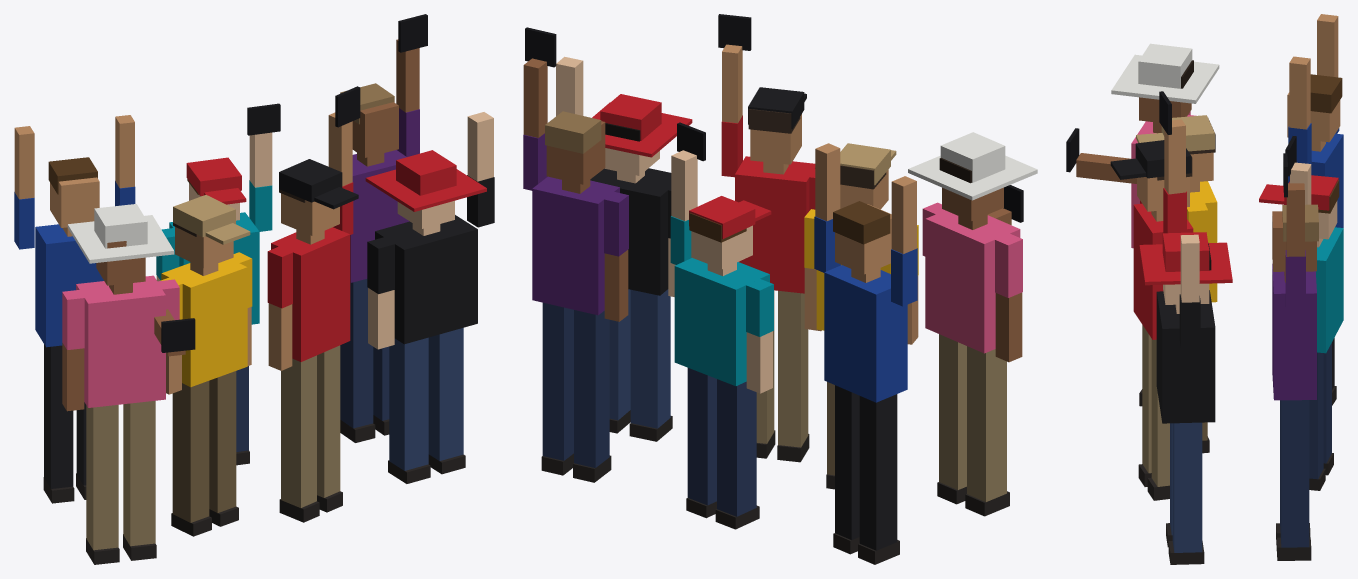
The model's file is crowd_f.dae.
3 views of the same model, side by side, from view 1: azimuth 30°, elevation 25°; view 2: azimuth 150°, elevation 25°; view 3: azimuth 270°, elevation 25° (orthographic). The views are drawn at different scales.
Visible parts, largest first — view 1: marker; view 2: marker; view 3: marker.
Boxes of the visible parts, <box> form: marker: <box>14,14,494,564</box>; marker: <box>523,14,1037,564</box>; marker: <box>1066,14,1343,564</box>.
Size of the model in its own units: 2.51 by 1.39 by 2.26.
